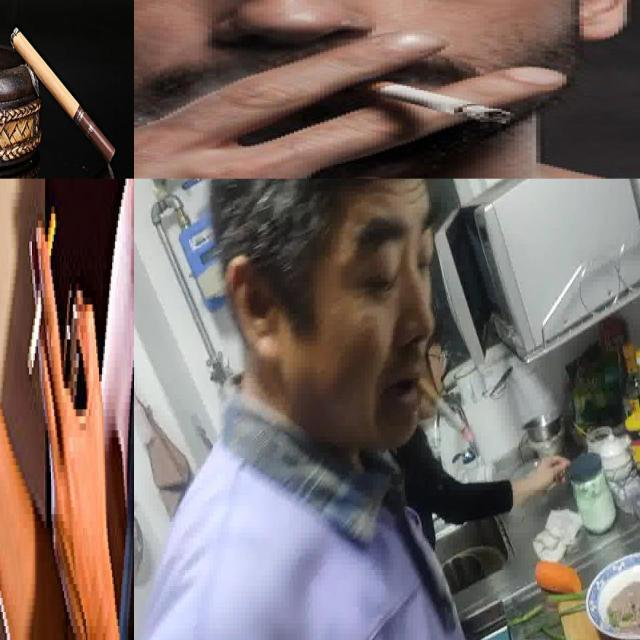smoking: (11, 26, 115, 163), (23, 192, 58, 396), (363, 79, 506, 122), (416, 370, 474, 444)
